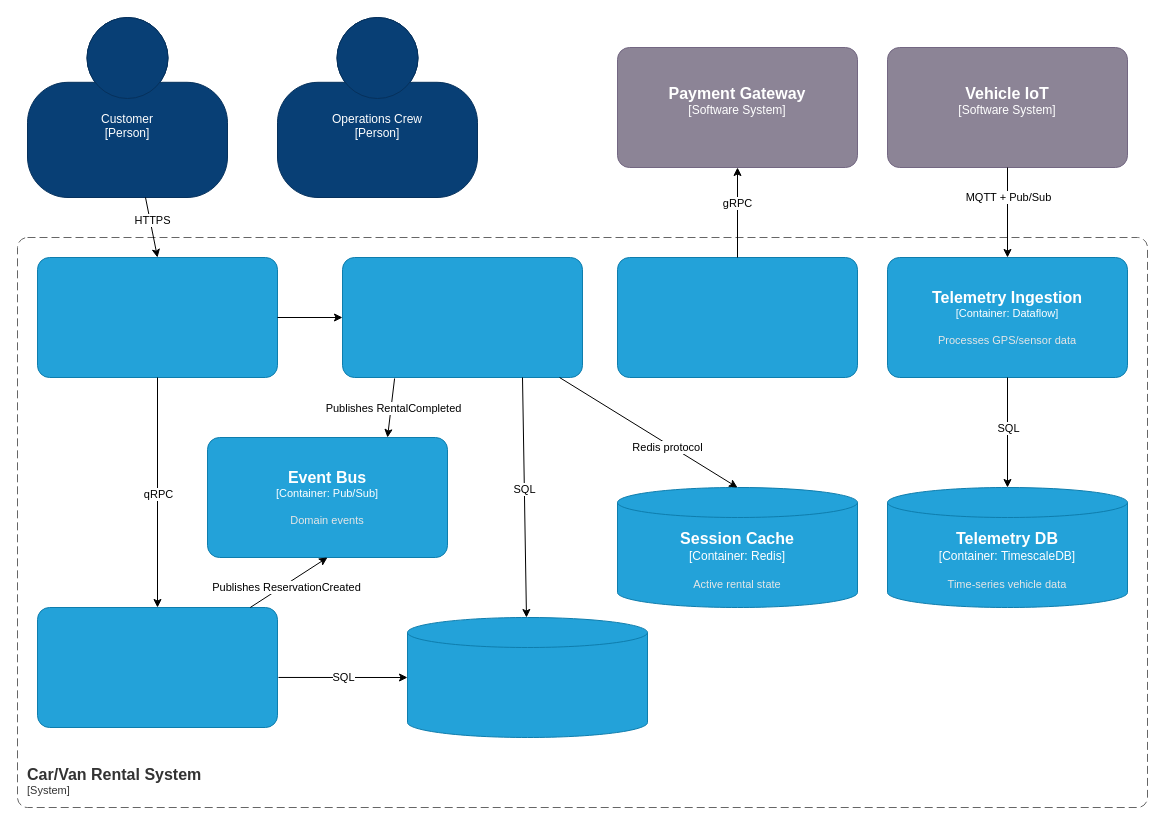
Image size: 1165x825. Some labels were removed from this diagram. The centre of each missing label's shape, as x and y in pixels:
"API Gateway [Container: Cloud Run] Routes requests, auth" belongs at (157,317).
"Booking Service [Container: Cloud Run] Reservation Logic" belongs at (157,667).
"Payment Calculator [Container: Cloud Run] Billing & fines" belongs at (737,317).
"Rental Lifecycle Service [Container: Cloud Run] Unlock, extend, return" belongs at (462,317).
"Reservation DB [Container: PostgreSQL] Bookings & rentals" belongs at (527,677).
